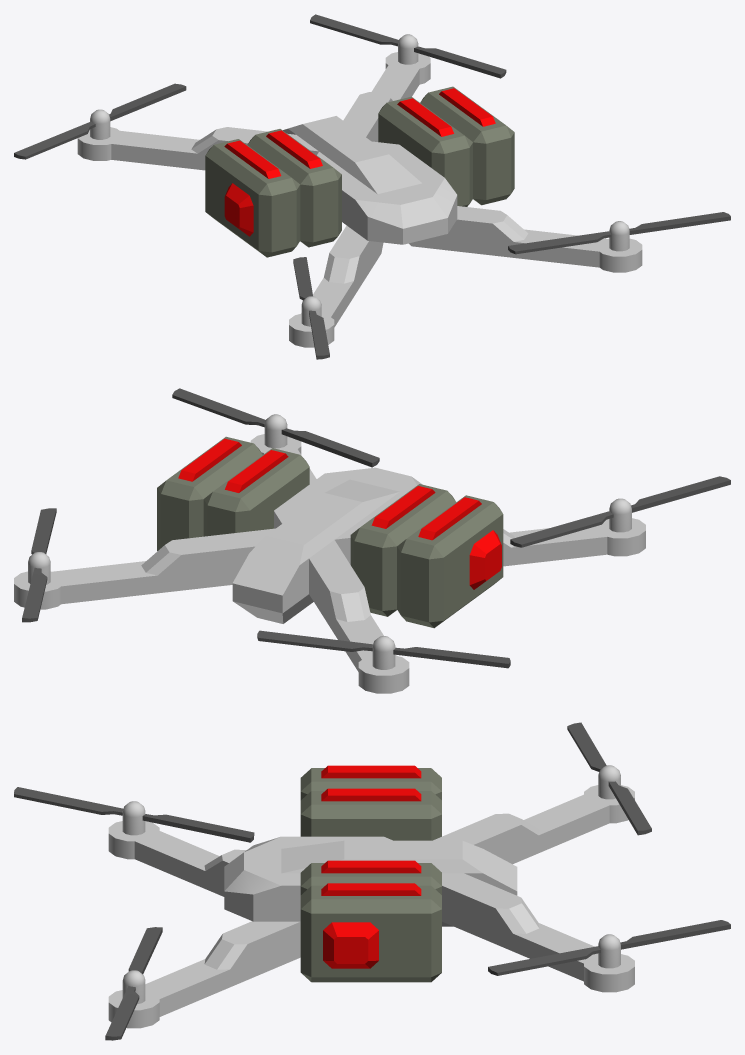
Rendered from Kamikaze (5).fbx.
3 views of the same model, one above another, from view 1: azimuth 30°, elevation 25°; view 2: azimuth 150°, elevation 25°; view 3: azimuth 270°, elevation 25° (orthographic). The views are drawn at different scales.
Visible parts, largest first — view 1: Kamikaze_Drone, Kamikaze_Rotor1, Kamikaze_Rotor4, Kamikaze_Rotor3, Kamikaze_Rotor2; view 2: Kamikaze_Drone, Kamikaze_Rotor3, Kamikaze_Rotor2, Kamikaze_Rotor1, Kamikaze_Rotor4; view 3: Kamikaze_Drone, Kamikaze_Rotor4, Kamikaze_Rotor2, Kamikaze_Rotor3, Kamikaze_Rotor1.
Part boxes in pixels (left/top/right/bottom): Kamikaze_Drone: left=77, top=34, right=642, bottom=347; Kamikaze_Rotor1: left=508, top=212, right=730, bottom=254; Kamikaze_Rotor4: left=310, top=14, right=506, bottom=78; Kamikaze_Rotor3: left=14, top=83, right=186, bottom=159; Kamikaze_Rotor2: left=293, top=257, right=329, bottom=359; Kamikaze_Drone: left=14, top=414, right=645, bottom=693; Kamikaze_Rotor3: left=257, top=630, right=510, bottom=668; Kamikaze_Rotor2: left=510, top=476, right=730, bottom=547; Kamikaze_Rotor1: left=172, top=388, right=379, bottom=467; Kamikaze_Rotor4: left=22, top=508, right=56, bottom=622; Kamikaze_Drone: left=108, top=765, right=634, bottom=1028; Kamikaze_Rotor4: left=488, top=920, right=730, bottom=975; Kamikaze_Rotor2: left=14, top=787, right=254, bottom=842; Kamikaze_Rotor3: left=567, top=722, right=651, bottom=835; Kamikaze_Rotor1: left=105, top=927, right=162, bottom=1040.
Bounding box in the file's own units: 2.06 × 0.3623 × 2.24.
